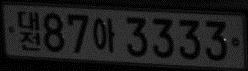3: (151, 17, 175, 59), (125, 16, 148, 57), (205, 20, 228, 61), (179, 19, 200, 60)
7: (66, 13, 90, 55)
8: (43, 12, 65, 52)
대전_V: (16, 10, 42, 52)
아: (93, 16, 116, 53)
